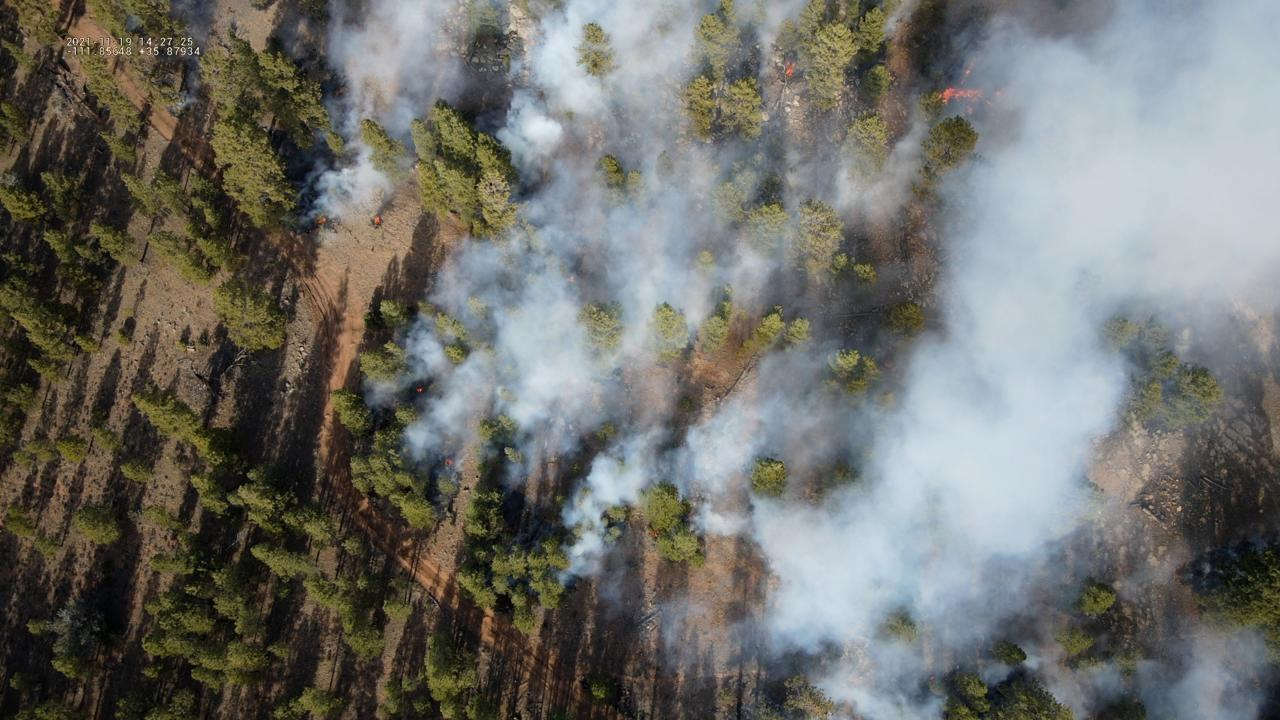fire: (940, 87, 983, 104), (964, 57, 979, 75), (785, 58, 796, 78), (961, 104, 975, 115), (317, 216, 329, 226), (372, 215, 383, 225), (567, 275, 577, 283), (445, 457, 453, 466), (416, 385, 424, 393), (995, 90, 1003, 97), (650, 530, 658, 537), (959, 79, 967, 85)
smoke: (289, 0, 1280, 720), (164, 0, 219, 117), (123, 14, 142, 36)
